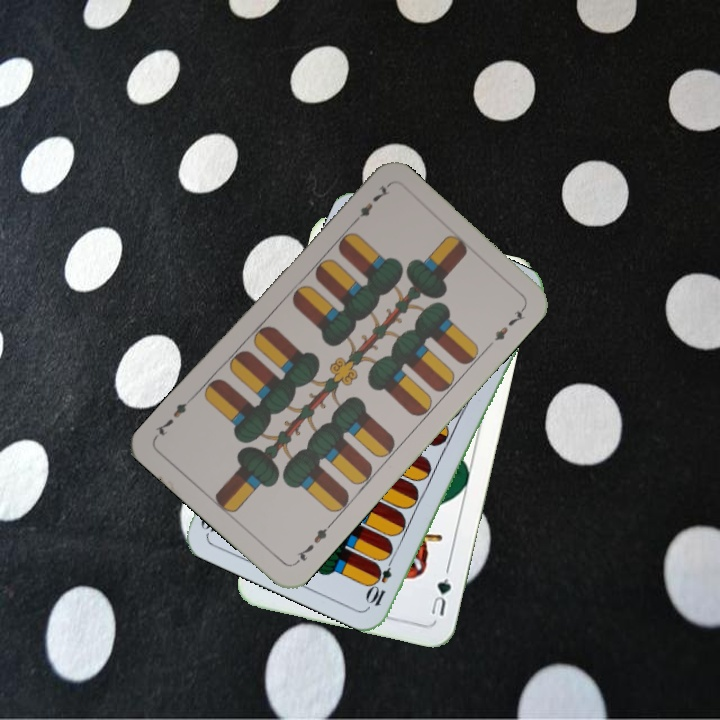E10: (364, 551, 397, 609)
E7: (347, 181, 393, 228), (290, 519, 335, 567)
GU: (426, 574, 454, 618)
